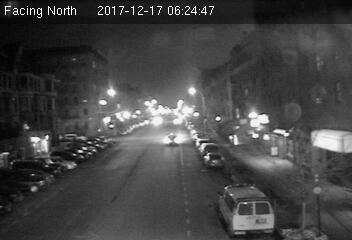car: (204, 152, 224, 167), (164, 133, 181, 148)
police: (216, 182, 275, 237)
